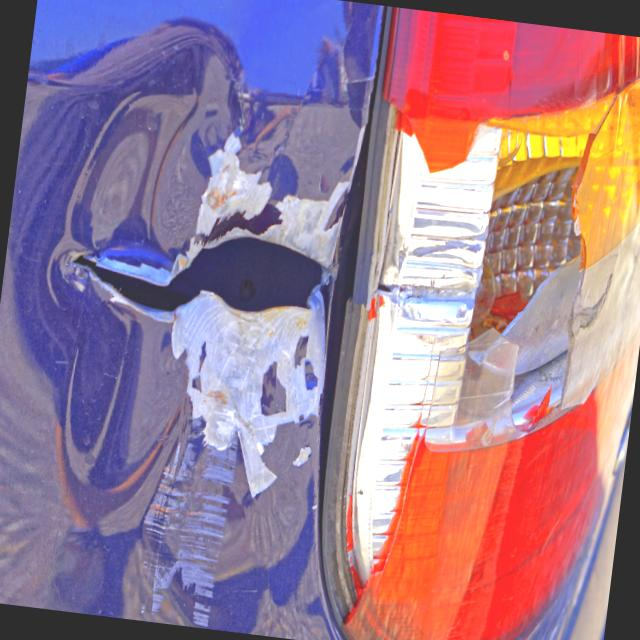Dechirure: (47, 103, 356, 384)
Rayure: (151, 105, 369, 509), (127, 398, 246, 630)
